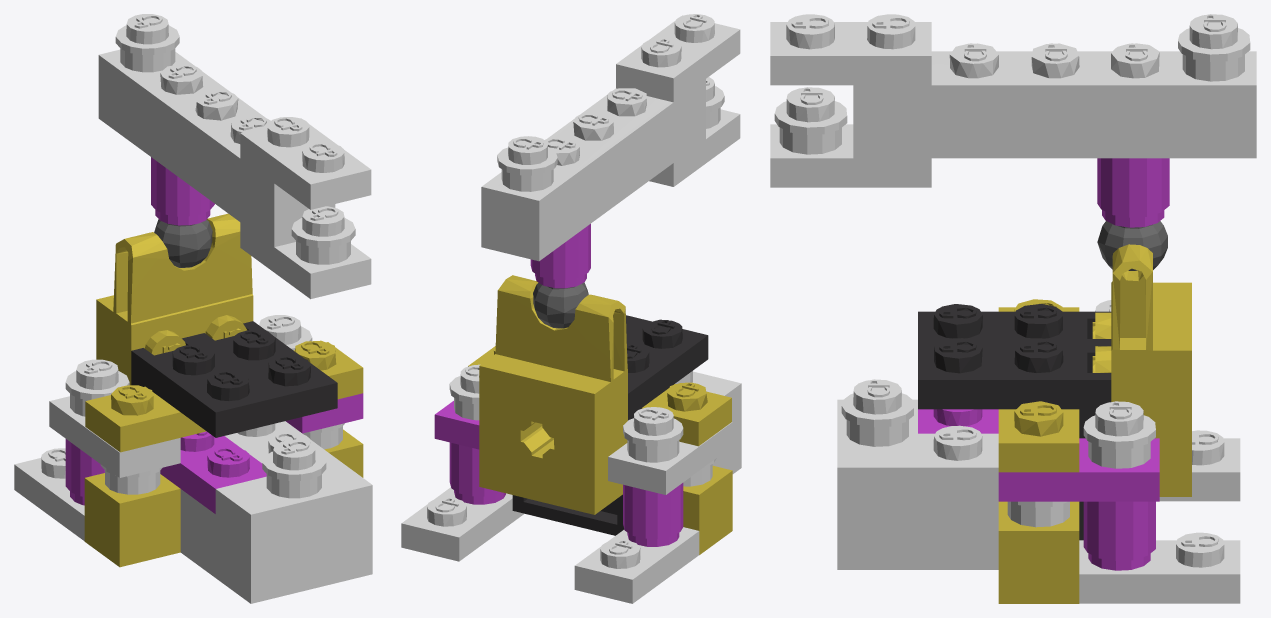
Rendered from Lego Gun.fbx.
The picture shows the model from 3 angles, left to right: view 1: azimuth 30°, elevation 25°; view 2: azimuth 150°, elevation 25°; view 3: azimuth 270°, elevation 25°; orthographic projection. The views are drawn at different scales.
Parts seen in each view (by area): view 1: Cube, Piece 2x2 Ball Join, Piece 2x2 Thin Angle, Piece 2x2.003, Piece 2x2.006, Cube.001, Piece 2x2, Piece 2x2.012, Piece 2x2.001, Piece 2x2.005, Piece 2x2.008, Piece 2x2.010 (+13 smaller); view 2: Piece 2x2 Ball Join, Cube, Piece 2x2 Thin Angle, Piece 2x2.006, Piece 2x2.010, Piece 2x2.009, Piece 2x2.008, Cube.001, Piece 2x1.004, Piece 2x2, Piece 2x1.000, Piece 2x1.001 (+9 smaller); view 3: Cube, Piece 2x2 Thin Angle, Piece 2x2 Ball Join, Piece 2x2.003, Piece 2x2.006, Piece 2x2.009, Piece 2x2.002, Piece 2x2.005, Cube.001, Piece 2x2.007, Piece 2x2.004, Piece 2x2.012 (+10 smaller).
Part boxes in pixels (bbox=[...]): Cube: bbox=[98, 49, 335, 246]; Piece 2x2 Ball Join: bbox=[96, 213, 253, 385]; Piece 2x2 Thin Angle: bbox=[131, 321, 337, 437]; Piece 2x2.003: bbox=[180, 489, 372, 603]; Piece 2x2.006: bbox=[240, 117, 371, 209]; Cube.001: bbox=[85, 340, 363, 452]; Piece 2x2: bbox=[84, 473, 180, 567]; Piece 2x2.012: bbox=[215, 459, 372, 539]; Piece 2x2.001: bbox=[160, 431, 266, 513]; Piece 2x2.005: bbox=[240, 222, 371, 299]; Piece 2x2.008: bbox=[49, 396, 180, 477]; Piece 2x2.010: bbox=[14, 448, 84, 540]; Piece 2x2 Ball Join: bbox=[479, 275, 627, 514]; Cube: bbox=[481, 79, 705, 261]; Piece 2x2 Thin Angle: bbox=[512, 315, 708, 535]; Piece 2x2.006: bbox=[616, 14, 740, 102]; Piece 2x2.010: bbox=[574, 527, 699, 603]; Piece 2x2.009: bbox=[401, 487, 524, 561]; Piece 2x2.008: bbox=[608, 422, 732, 494]; Cube.001: bbox=[468, 346, 731, 446]; Piece 2x1.004: bbox=[623, 483, 683, 546]; Piece 2x2: bbox=[683, 465, 732, 554]; Piece 2x1.000: bbox=[497, 136, 557, 191]; Piece 2x1.001: bbox=[623, 407, 683, 462]; Cube: bbox=[853, 43, 1256, 158]; Piece 2x2 Thin Angle: bbox=[918, 304, 1111, 540]; Piece 2x2 Ball Join: bbox=[1092, 244, 1191, 496]; Piece 2x2.003: bbox=[837, 497, 998, 569]; Piece 2x2.006: bbox=[770, 14, 931, 85]; Piece 2x2.009: bbox=[1079, 532, 1240, 603]; Piece 2x2.002: bbox=[998, 501, 1079, 603]; Piece 2x2.005: bbox=[770, 124, 931, 187]; Cube.001: bbox=[998, 299, 1079, 472]; Piece 2x2.007: bbox=[998, 438, 1159, 501]; Piece 2x2.004: bbox=[918, 425, 998, 496]; Piece 2x2.012: bbox=[837, 399, 917, 496].
Bounding box in the file's own units: 422 × 240 × 362.
